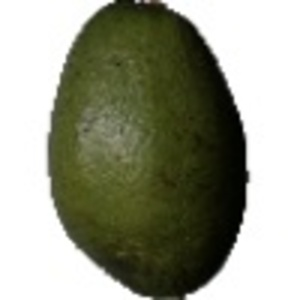abacate: (39, 2, 255, 294)
